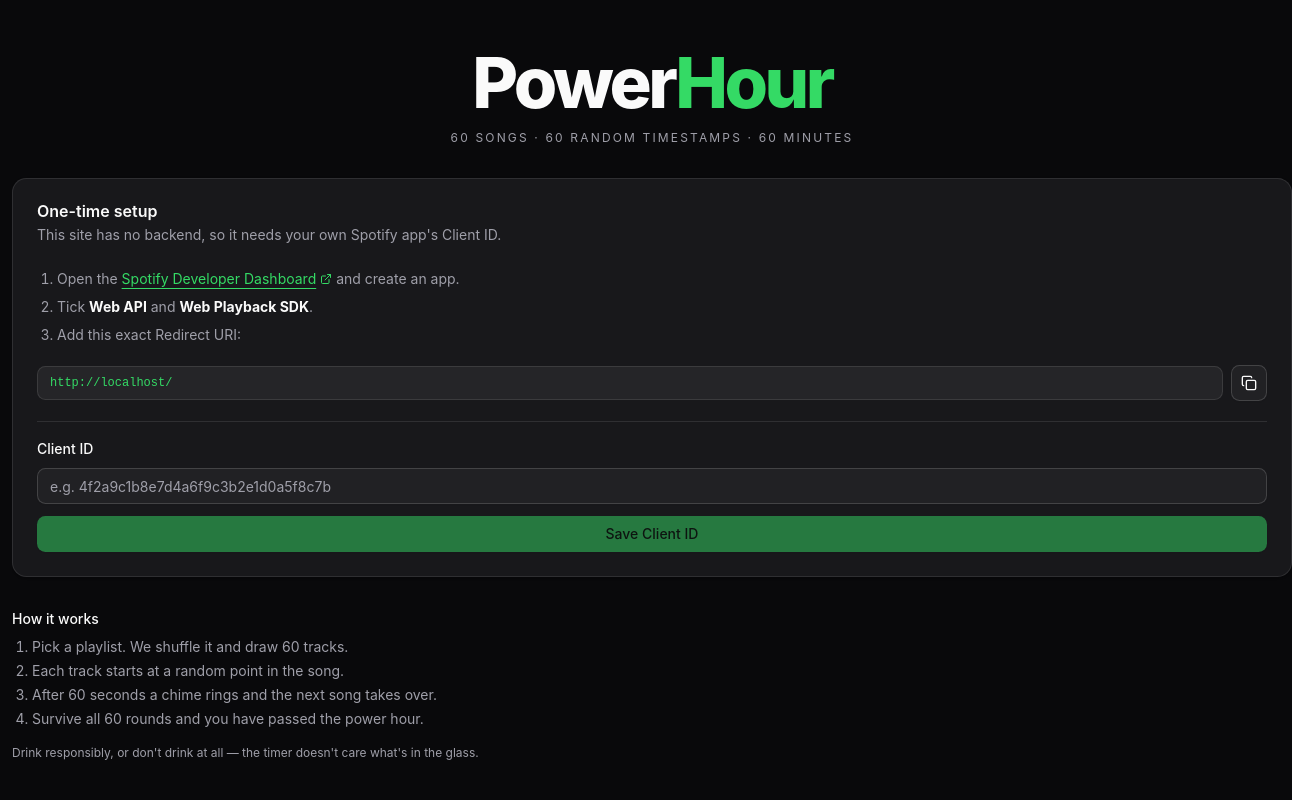
Test: SetupScreen — first run › disables save until something is typed
Expected: the button "Save Client ID" is disabled, [37, 516, 1267, 552]
Type "abc123" into the field labelled "Client ID".
click(652, 486); type("abc123")  # box [37, 468, 1267, 504]
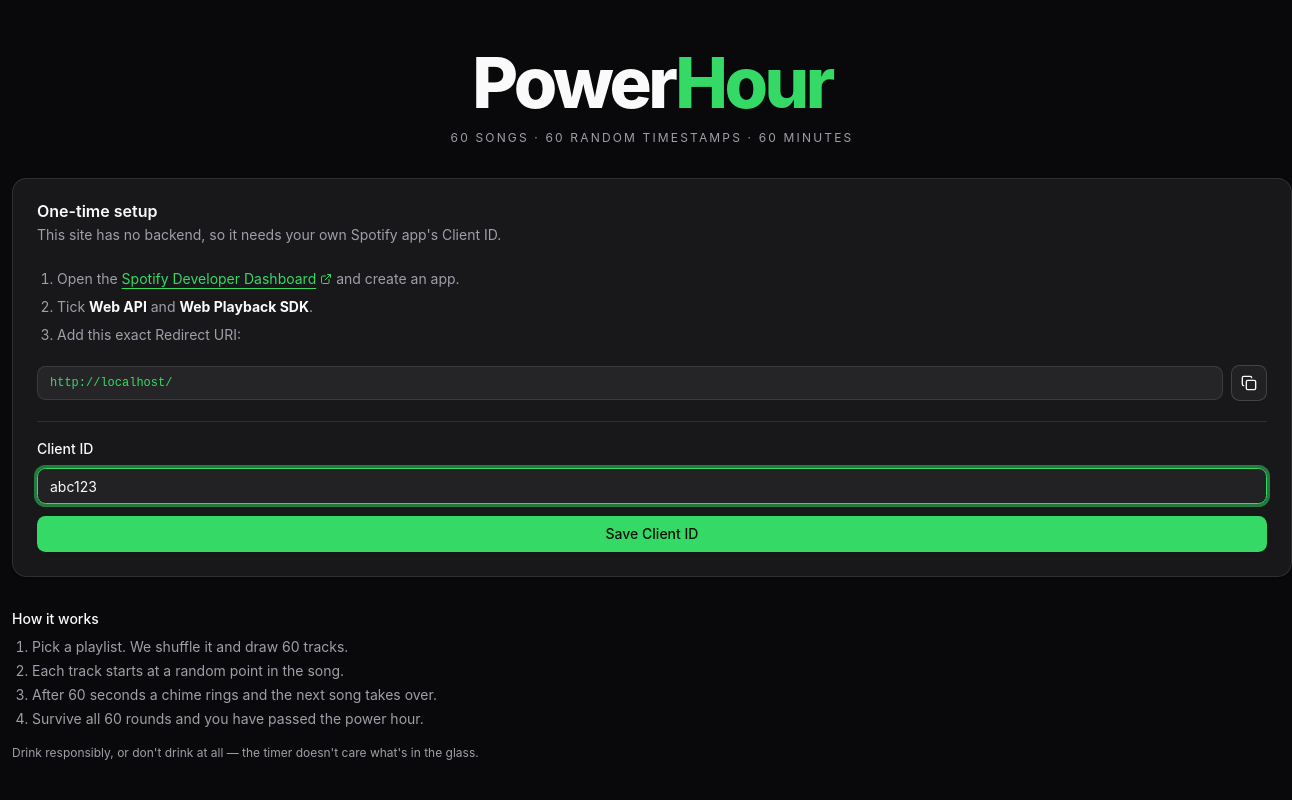
Now the button "Save Client ID" is enabled, box [37, 516, 1267, 552]
